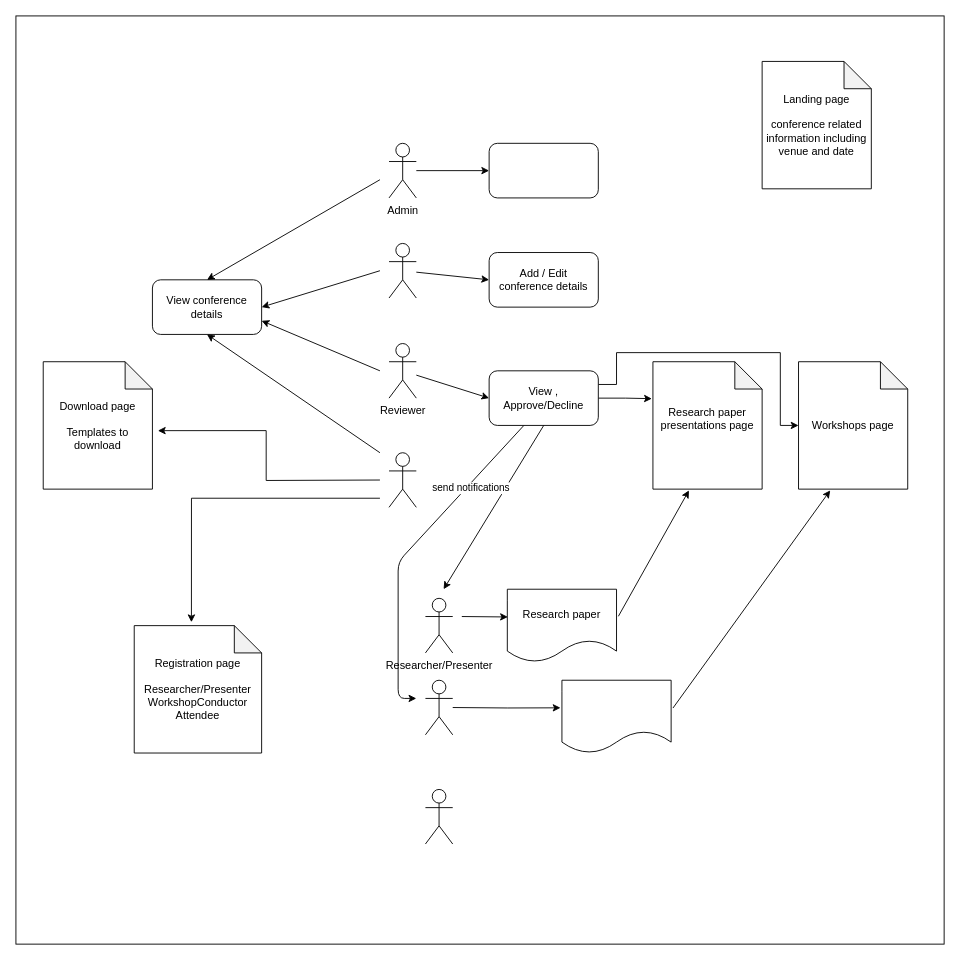
This 960x960 diagram has some shape labels left out. The shapes that lost their labels are listed below. From the top down, each one's centre as x and y in pixels, then its label:
point (543, 170): Approve conference details added by Editor
point (402, 270): Editor
point (402, 479): User
point (439, 707): Workshop conductor
point (616, 716): Workshop proposal with details
point (439, 816): Attendee
